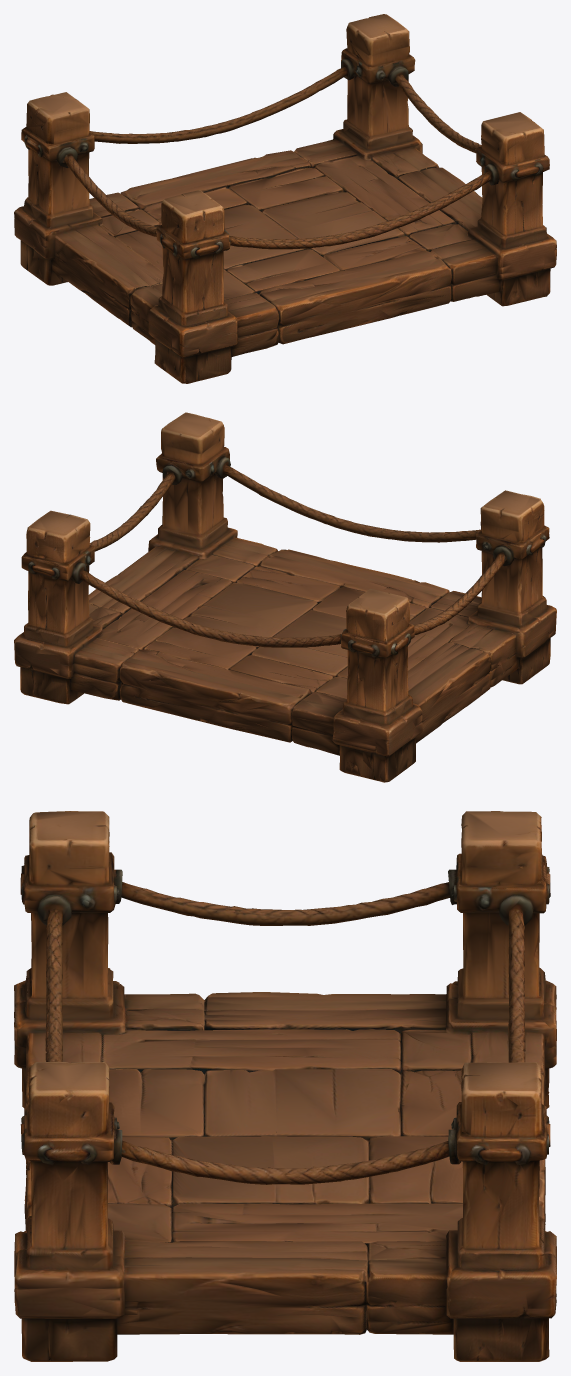
Rendered from plataforma_de_madera.glb.
The picture shows the model from 3 angles, top to bottom: view 1: azimuth 30°, elevation 25°; view 2: azimuth 150°, elevation 25°; view 3: azimuth 270°, elevation 25°; orthographic projection. The views are drawn at different scales.
Visible parts, largest first — view 1: plataforma_de_madera; view 2: plataforma_de_madera; view 3: plataforma_de_madera.
Part boxes in pixels (x1,y1,x2,y2): plataforma_de_madera: [14, 14, 556, 383]; plataforma_de_madera: [14, 412, 556, 782]; plataforma_de_madera: [14, 811, 556, 1361].
Size of what is drawn, in the model's own units: 3 by 1.27 by 2.32.
1 material, 1 textured.
